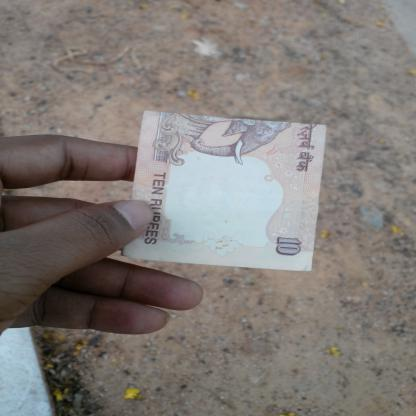Old10Back: (120, 110, 328, 273)
